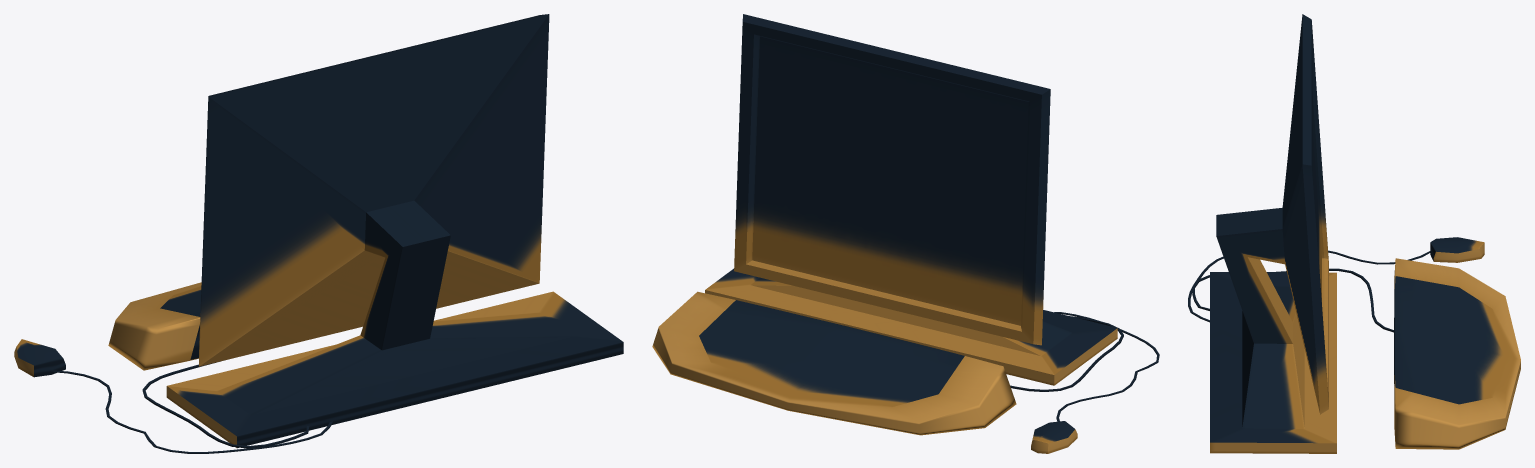
Rendered from SOD_Computer_Asset.fbx.
The picture shows the model from 3 angles, left to right: view 1: azimuth 30°, elevation 25°; view 2: azimuth 150°, elevation 25°; view 3: azimuth 270°, elevation 25°; orthographic projection. The views are drawn at different scales.
Parts seen in each view (by area): view 1: SOD_Computer_Asset; view 2: SOD_Computer_Asset; view 3: SOD_Computer_Asset.
Part boxes in pixels (x1=…): SOD_Computer_Asset: x1=14, y1=14, x2=623, y2=453; SOD_Computer_Asset: x1=652, y1=14, x2=1159, y2=453; SOD_Computer_Asset: x1=1188, y1=14, x2=1520, y2=453.
Bounding box in the file's own units: 74.77 × 47.24 × 50.88.
1 material, 1 textured.
